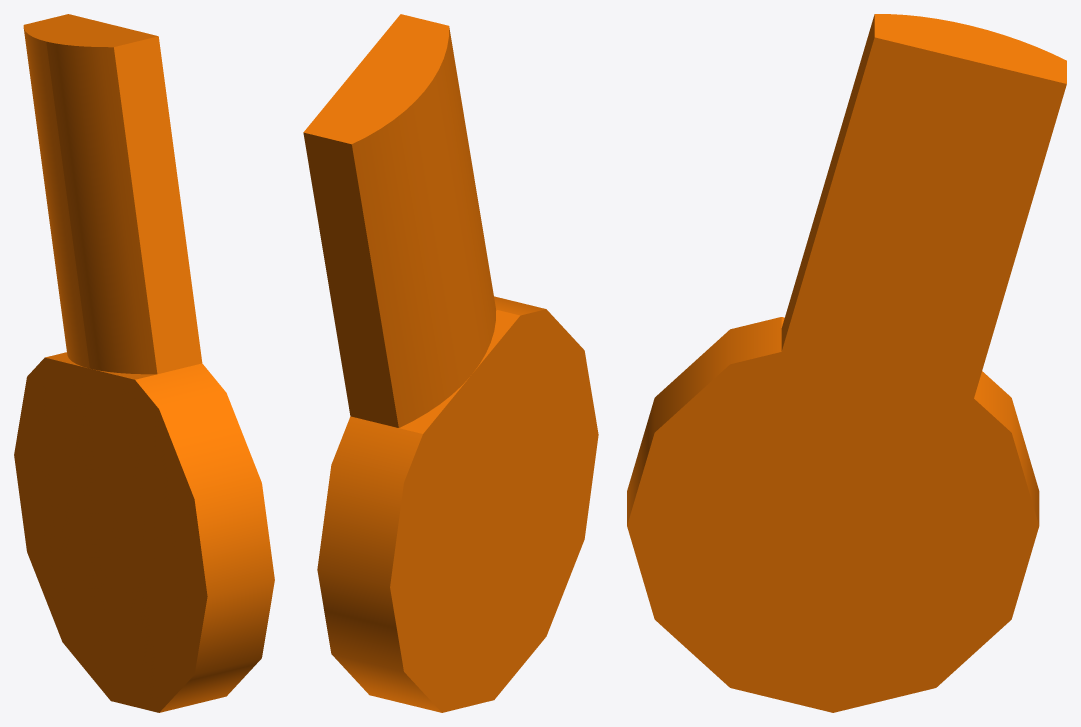
File: original-13.obj
3 views of the same model, side by side, from view 1: azimuth 30°, elevation 25°; view 2: azimuth 150°, elevation 25°; view 3: azimuth 270°, elevation 25° (orthographic). The views are drawn at different scales.
Visible parts, largest first — view 1: mesh24/mesh24-geometry#mesh24-geometry; view 2: mesh24/mesh24-geometry#mesh24-geometry; view 3: mesh24/mesh24-geometry#mesh24-geometry.
Part boxes in pixels (x1,y1,x2,y2): mesh24/mesh24-geometry#mesh24-geometry: (14,14,274,712); mesh24/mesh24-geometry#mesh24-geometry: (303,14,598,712); mesh24/mesh24-geometry#mesh24-geometry: (627,14,1066,712).
Bounding box in the file's own units: 0.00641 × 0.0577 × 0.034.
